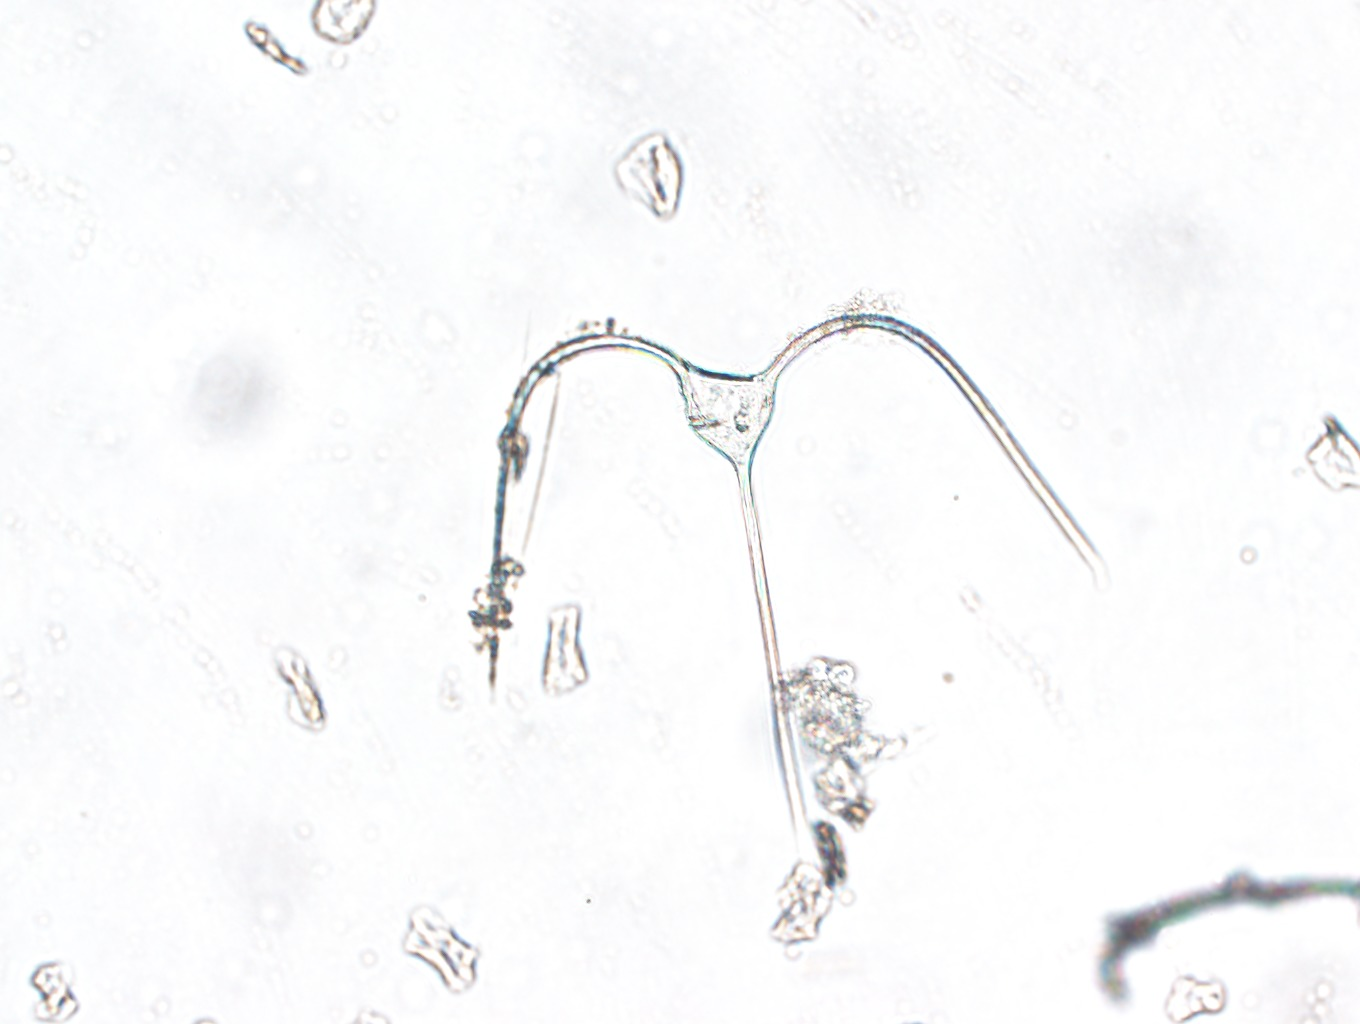ceratium trichoceros: (489, 313, 1098, 833)
